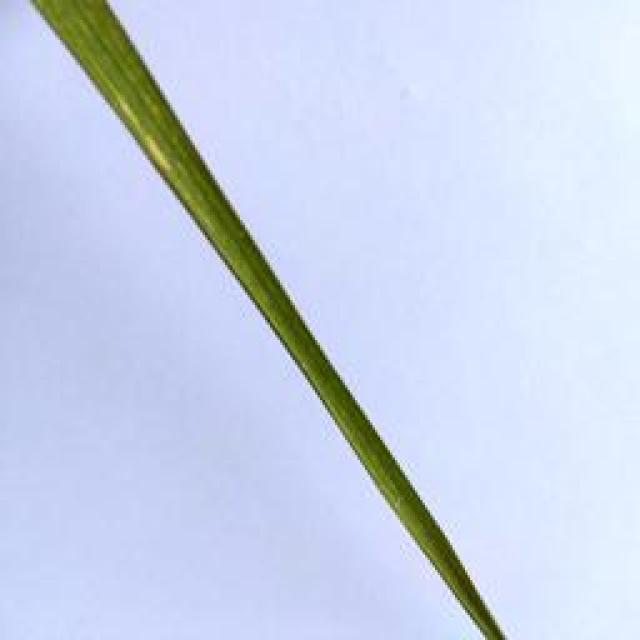Unhealthy: (107, 81, 172, 172)
